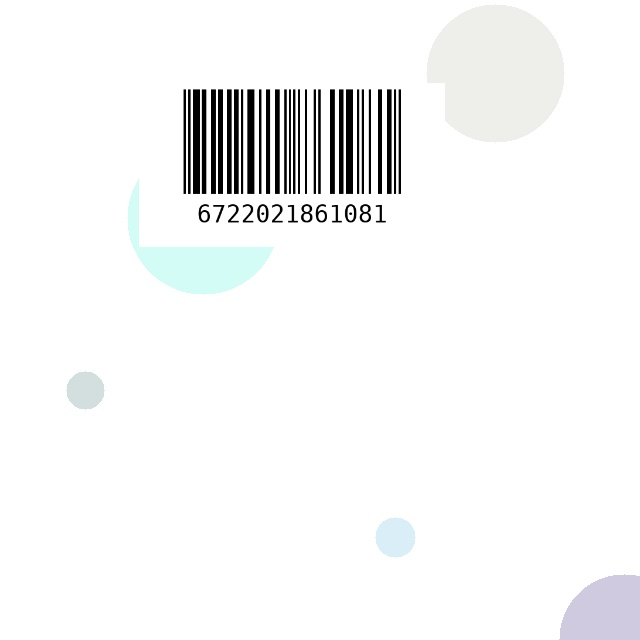barcode: (139, 83, 445, 247)
